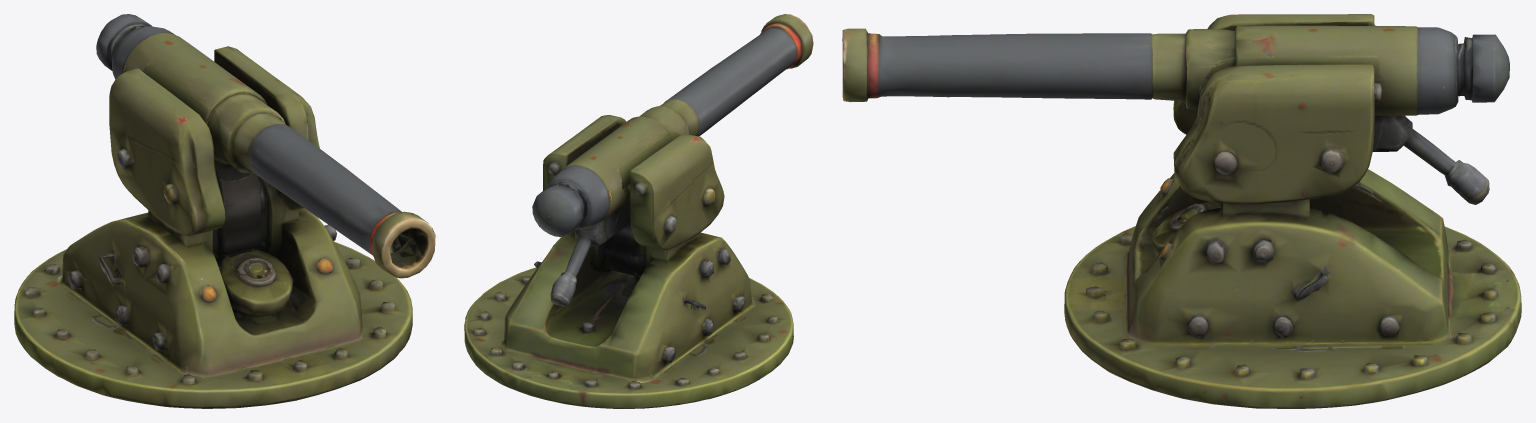
File: cannon.glb
3 views of the same model, side by side, from view 1: azimuth 30°, elevation 25°; view 2: azimuth 150°, elevation 25°; view 3: azimuth 270°, elevation 25° (orthographic). The views are drawn at different scales.
Bounding box in the file's own units: 1.33 × 0.9301 × 2.
1 material, 1 textured.
